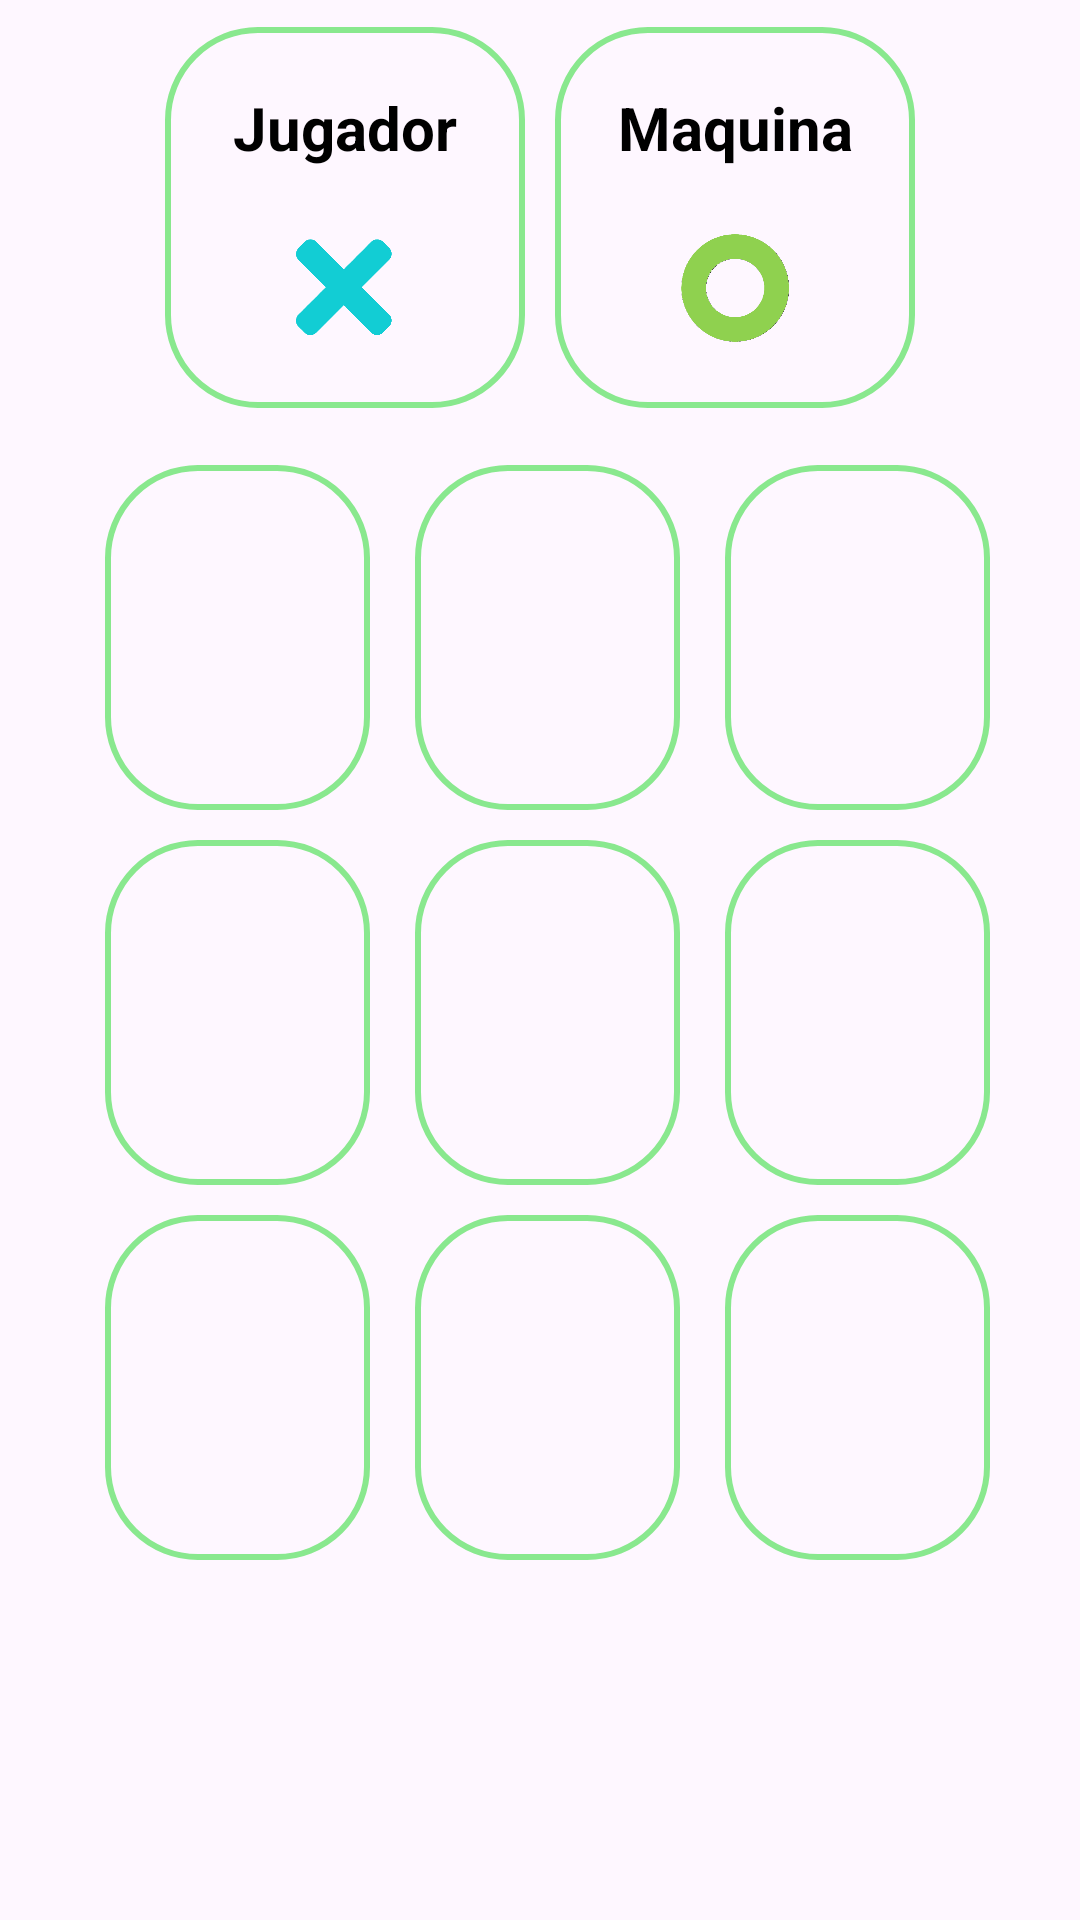

Screen size 1080×1920. Icon name, then its box in pixels as (x1, y1, x2, y2):
circulo: (681, 234, 789, 342)
cruz: (296, 239, 392, 335)
